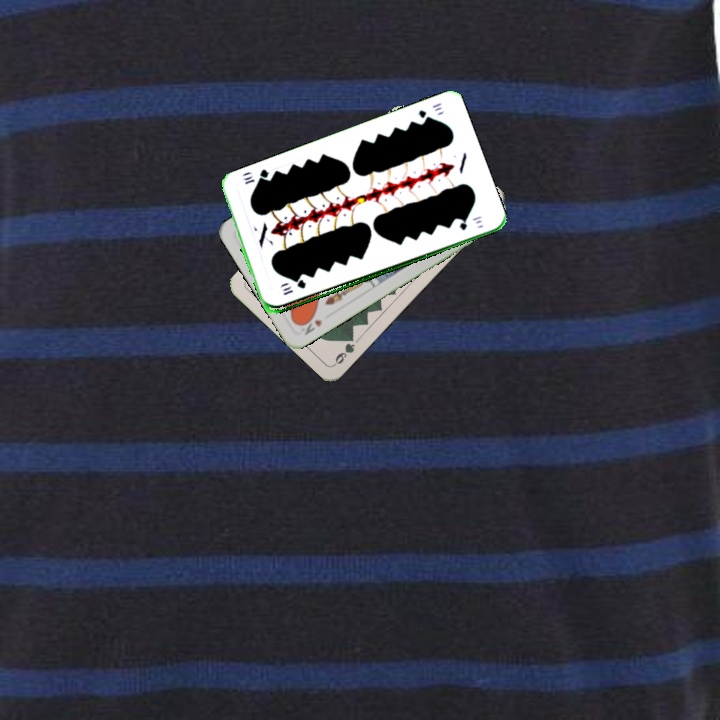G10: (414, 98, 444, 124), (279, 277, 309, 298)
G9: (330, 331, 358, 368)
HK: (294, 312, 325, 338)
